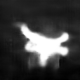plane: (13, 21, 72, 69)
